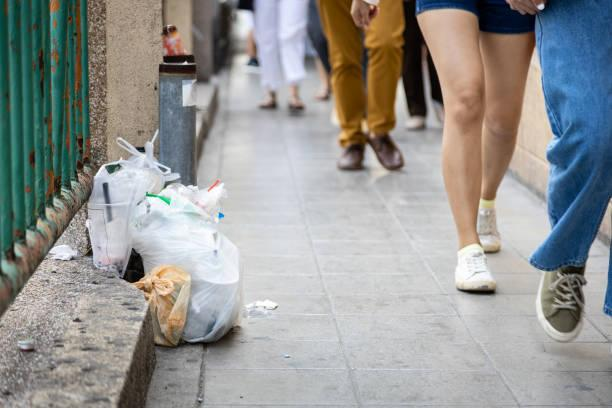trash: (65, 136, 255, 359)
